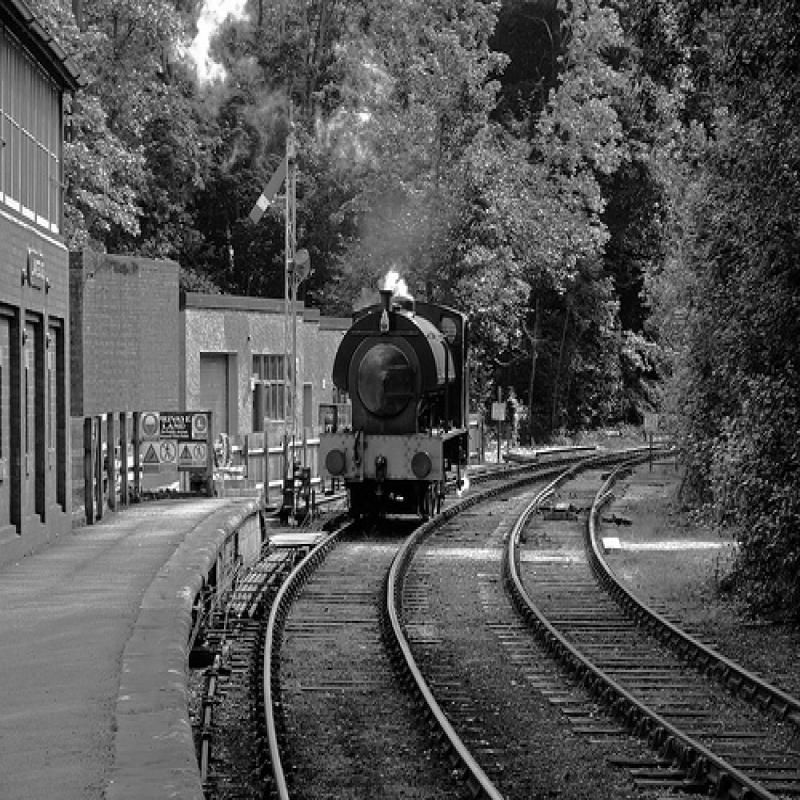train: (323, 287, 475, 526)
